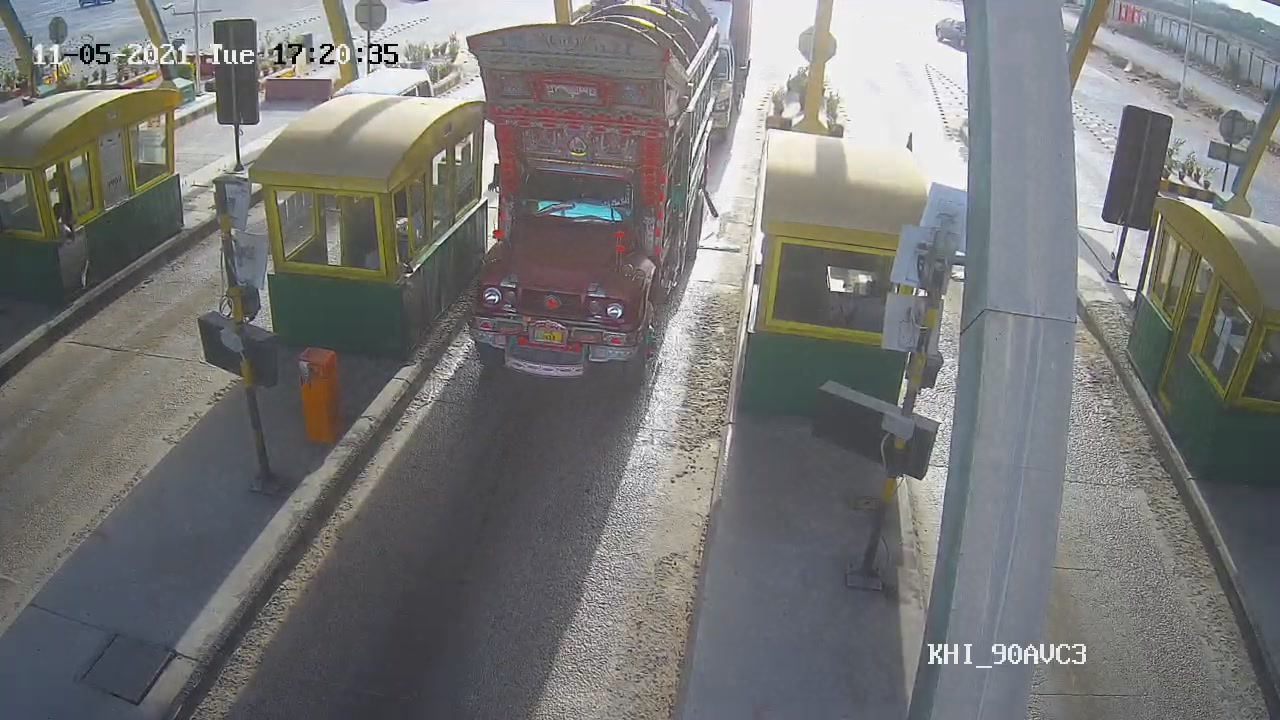F5: (465, 1, 724, 379)
